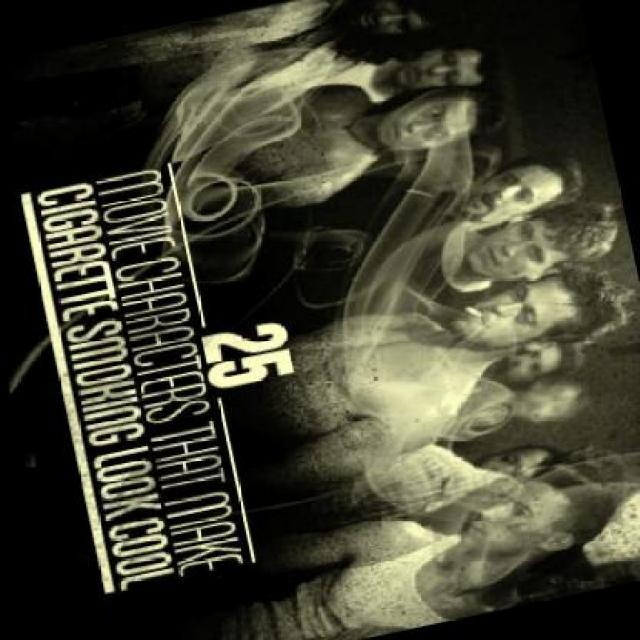smoke: (462, 302, 484, 320)
